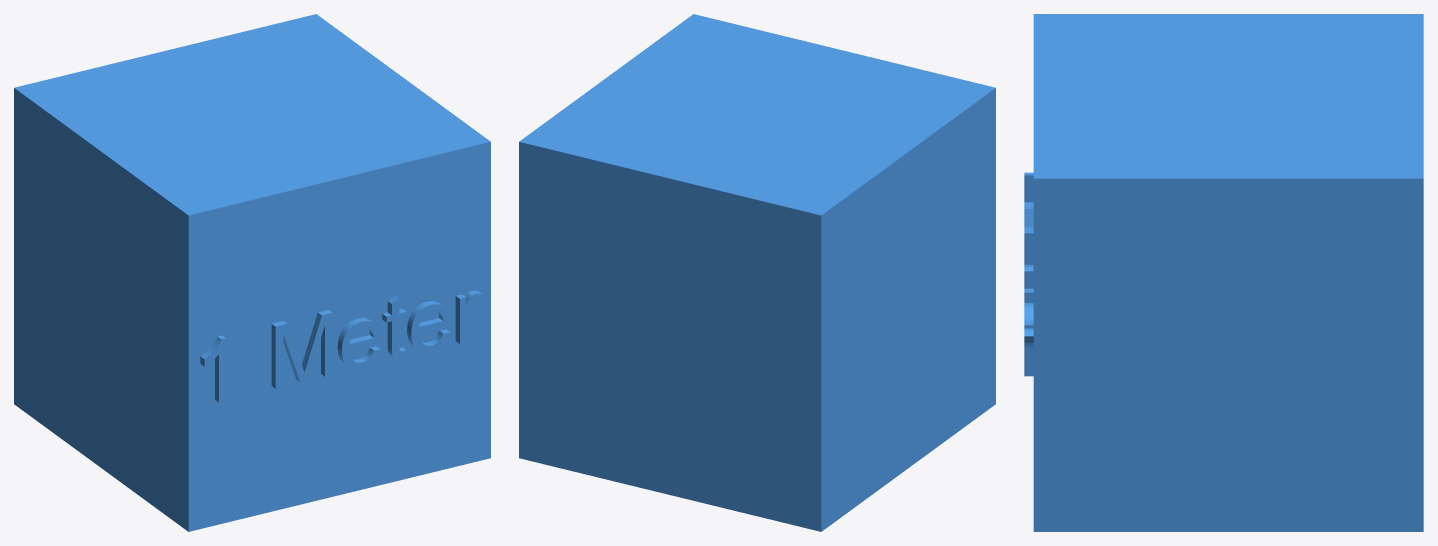
Rendered from MeterBox.gltf.
3 renders of one model, left to right at view 1: azimuth 30°, elevation 25°; view 2: azimuth 150°, elevation 25°; view 3: azimuth 270°, elevation 25°, orthographic. The views are drawn at different scales.
Parts seen in each view (by area): view 1: MeterBox; view 2: MeterBox; view 3: MeterBox.
Boxes of the visible parts, <box> form: MeterBox: <box>14,14,490,531</box>; MeterBox: <box>519,14,995,531</box>; MeterBox: <box>1024,14,1423,531</box>.
Bounding box in the file's own units: 1 × 1 × 1.02.
